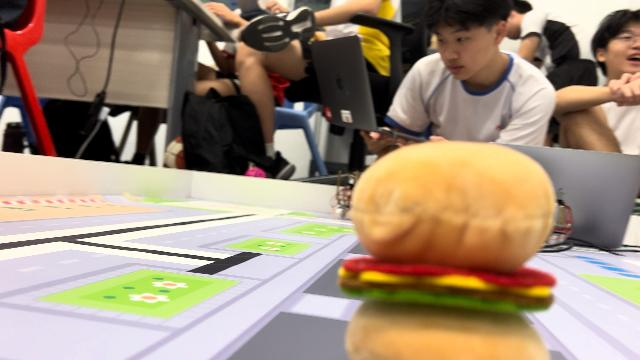burger: (351, 140, 555, 360)
